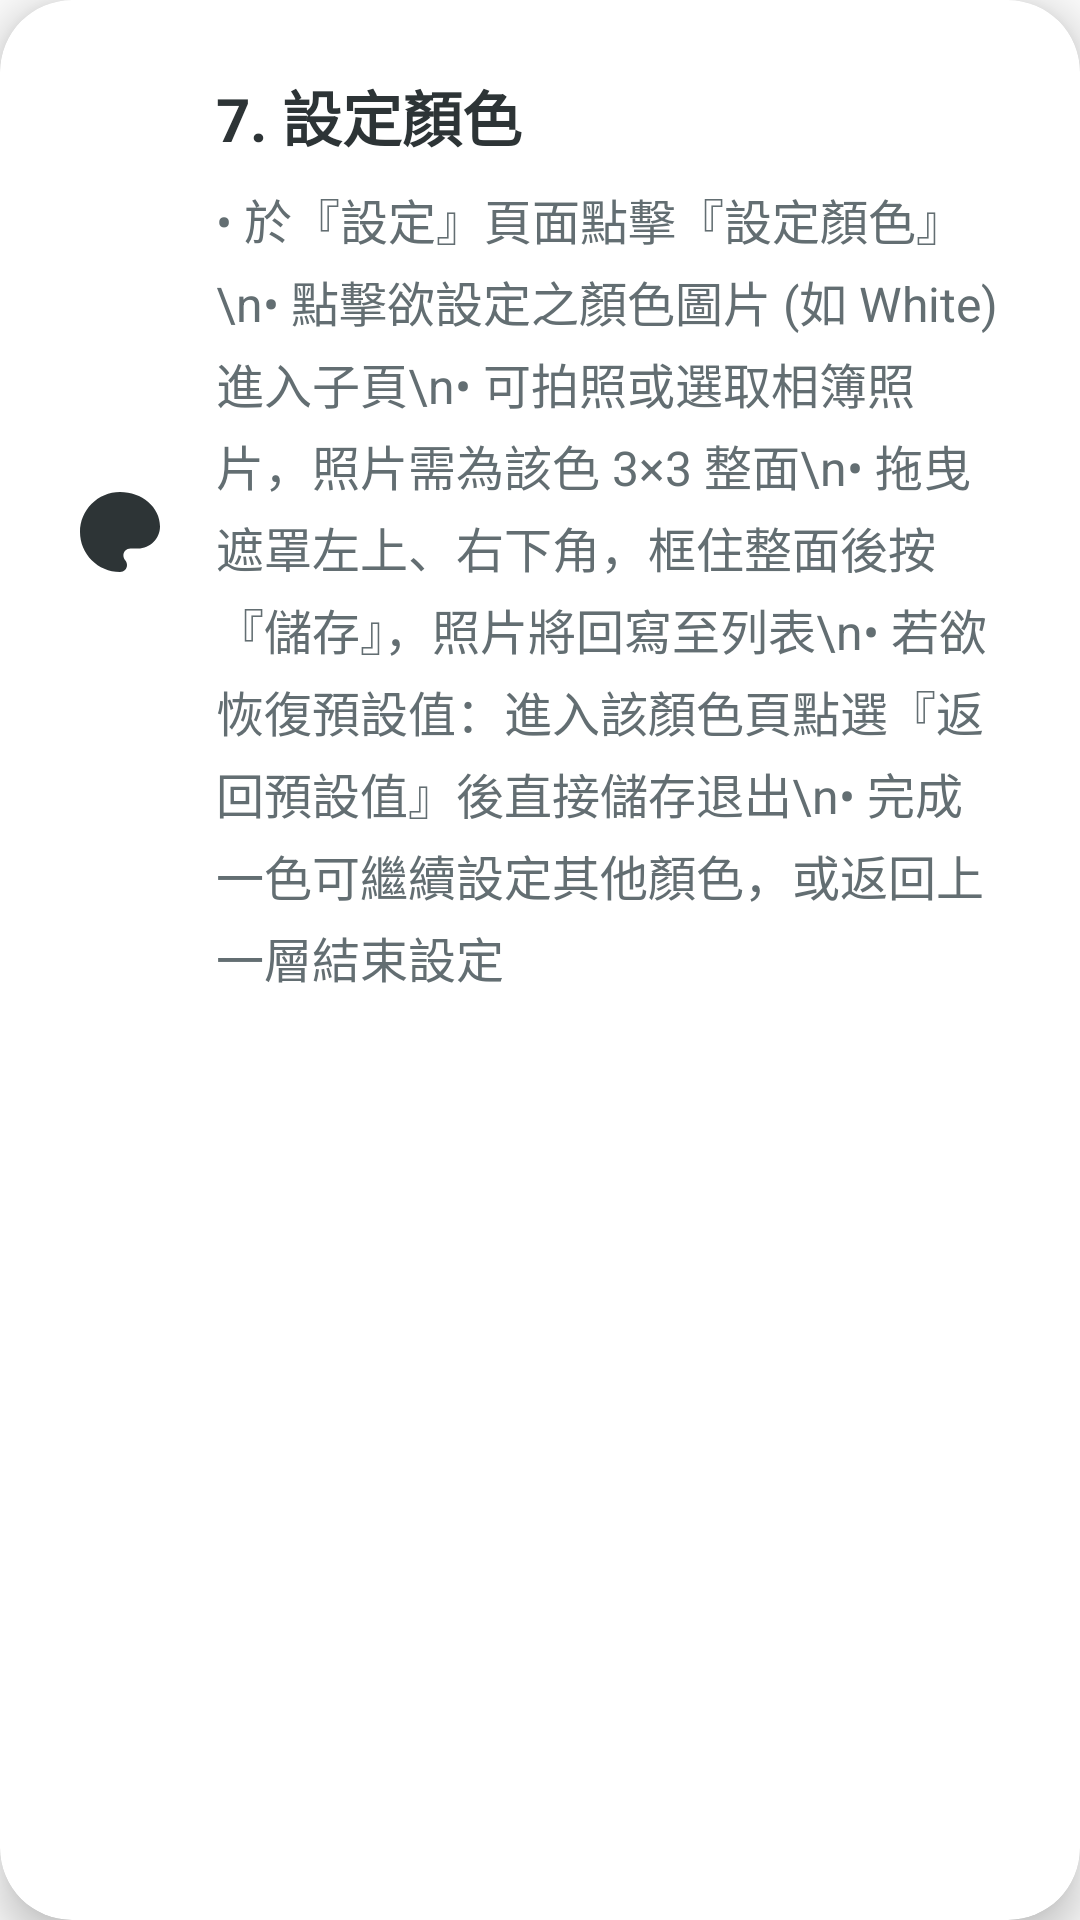

Icon click points for this 1080*1920 phone screenshot, format (x,y):
palette: (120,532)
